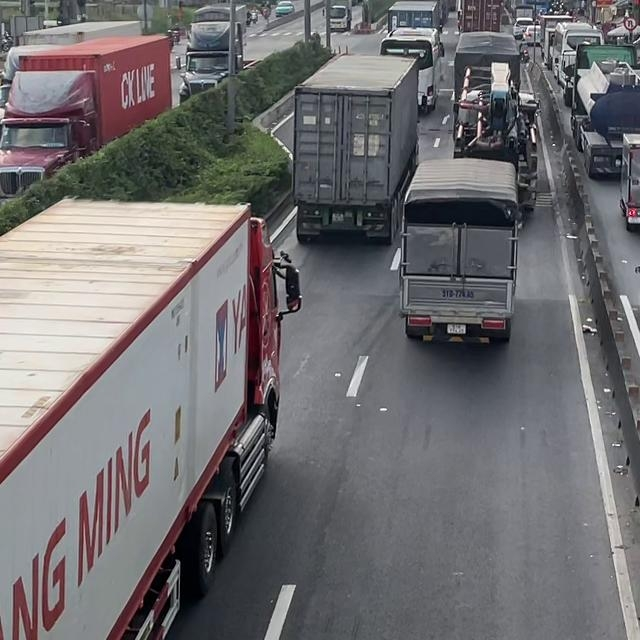bus: (378, 26, 440, 114), (551, 21, 604, 86)
car: (512, 16, 533, 39), (522, 24, 541, 45)
truck: (0, 193, 302, 639), (0, 32, 172, 204), (292, 50, 419, 245), (389, 157, 521, 344), (451, 62, 539, 210), (0, 19, 142, 110), (569, 45, 640, 179), (178, 20, 263, 103), (452, 31, 520, 102), (382, 1, 442, 36), (619, 131, 639, 232), (456, 0, 504, 33)
